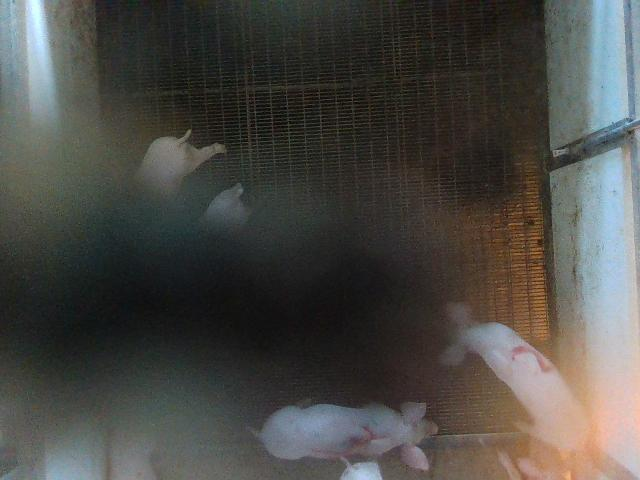pig-2: (441, 304, 589, 451)
pig-3: (258, 402, 438, 469)
